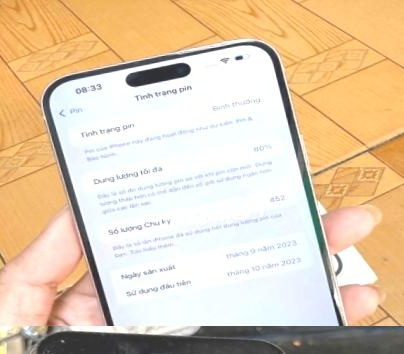physical_damage: (12, 344, 76, 354)
scratch: (172, 36, 253, 54), (326, 276, 345, 323)
